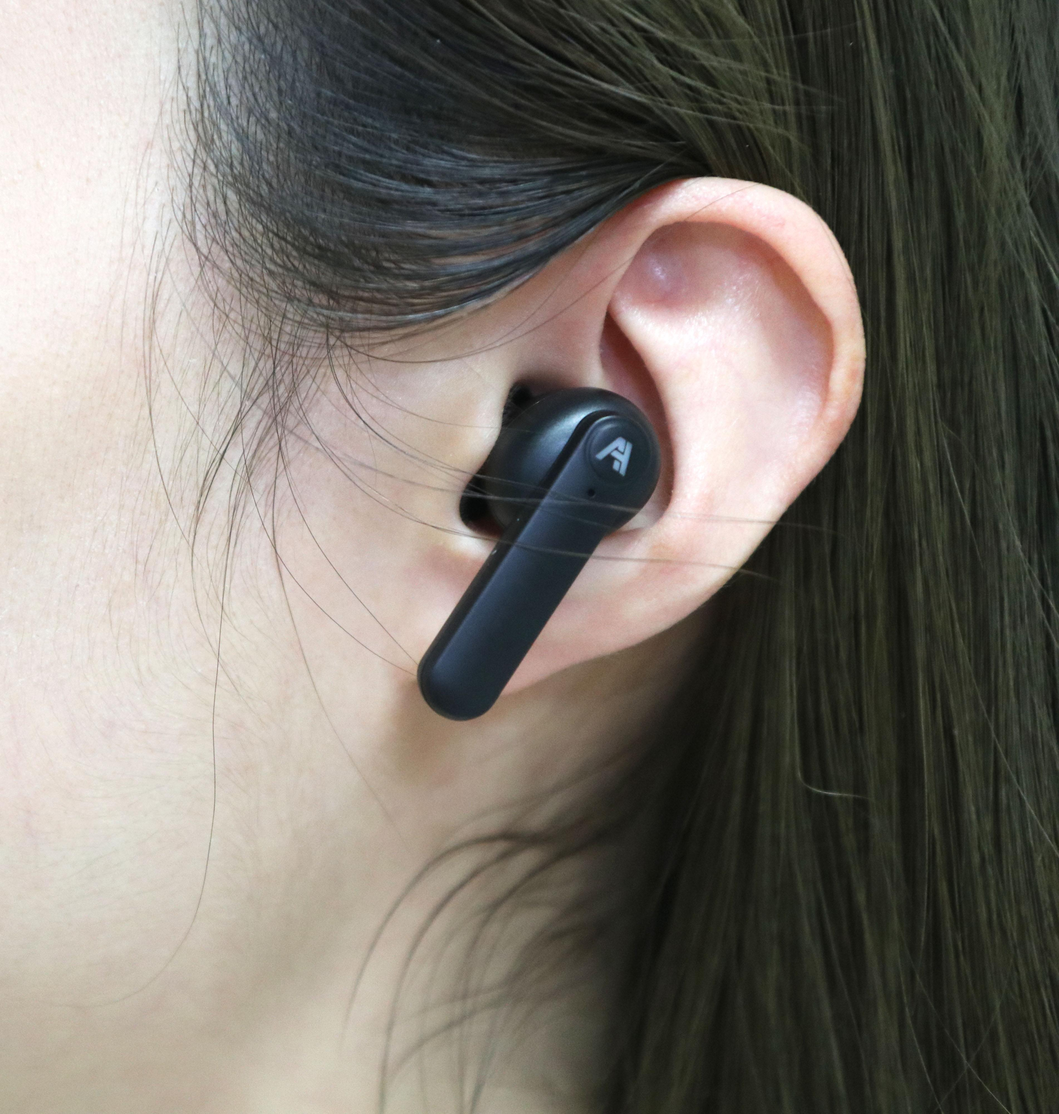earphone: (401, 375, 686, 744)
